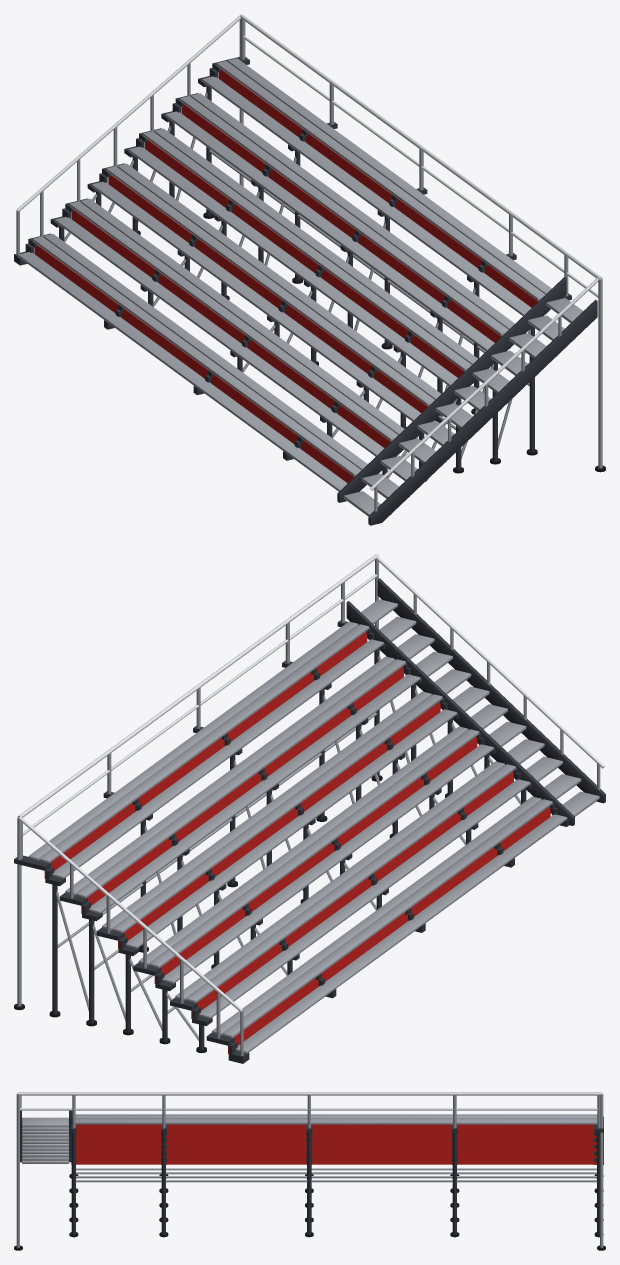
Rendered from A_Bleachers.fbx.
3 renders of one model, top to bottom at view 1: azimuth 30°, elevation 25°; view 2: azimuth 150°, elevation 25°; view 3: azimuth 270°, elevation 25°, orthographic. The views are drawn at different scales.
Visible parts, largest first — view 1: Metal.001, Accent.001, Frame.001, Chrome; view 2: Metal.001, Accent.001, Frame.001, Chrome; view 3: Accent.001, Metal.001, Chrome, Frame.001, Dark.001.
Part boxes in pixels (x1=…): Metal.001: x1=16, y1=18, x2=602, y2=516; Accent.001: x1=34, y1=69, x2=537, y2=483; Frame.001: x1=14, y1=57, x2=597, y2=525; Chrome: x1=17, y1=14, x2=602, y2=490; Metal.001: x1=17, y1=555, x2=600, y2=1055; Accent.001: x1=44, y1=631, x2=550, y2=1053; Frame.001: x1=14, y1=578, x2=605, y2=1063; Chrome: x1=17, y1=554, x2=604, y2=1012; Accent.001: x1=76, y1=1124, x2=596, y2=1164; Metal.001: x1=16, y1=1093, x2=603, y2=1247; Chrome: x1=18, y1=1092, x2=602, y2=1110; Frame.001: x1=20, y1=1110, x2=603, y2=1234; Dark.001: x1=14, y1=1174, x2=605, y2=1250.
Size of the model in its own units: 8.93 by 7.01 by 24.01.
